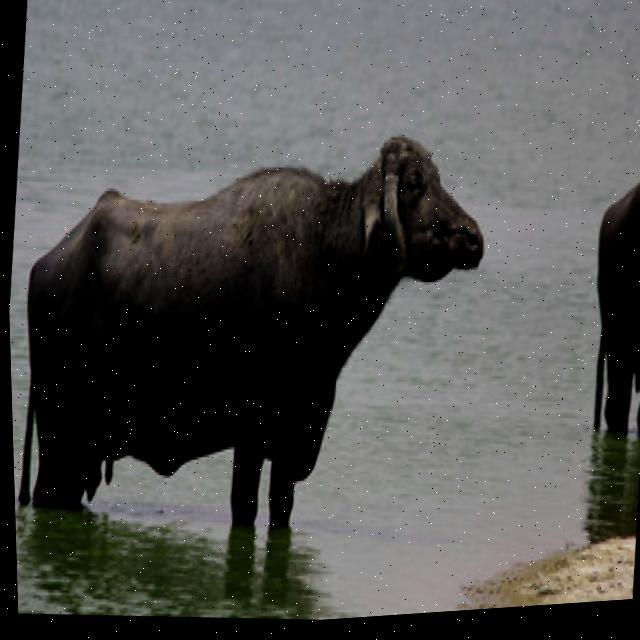Buffalo: (4, 94, 506, 565)
